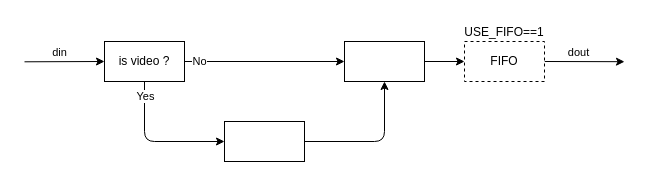
This 650x179 diagram has some shape labels left out. Each missing label, with the centre of its shape:
swap endianity: (x=264, y=141)
to output: (x=384, y=61)
